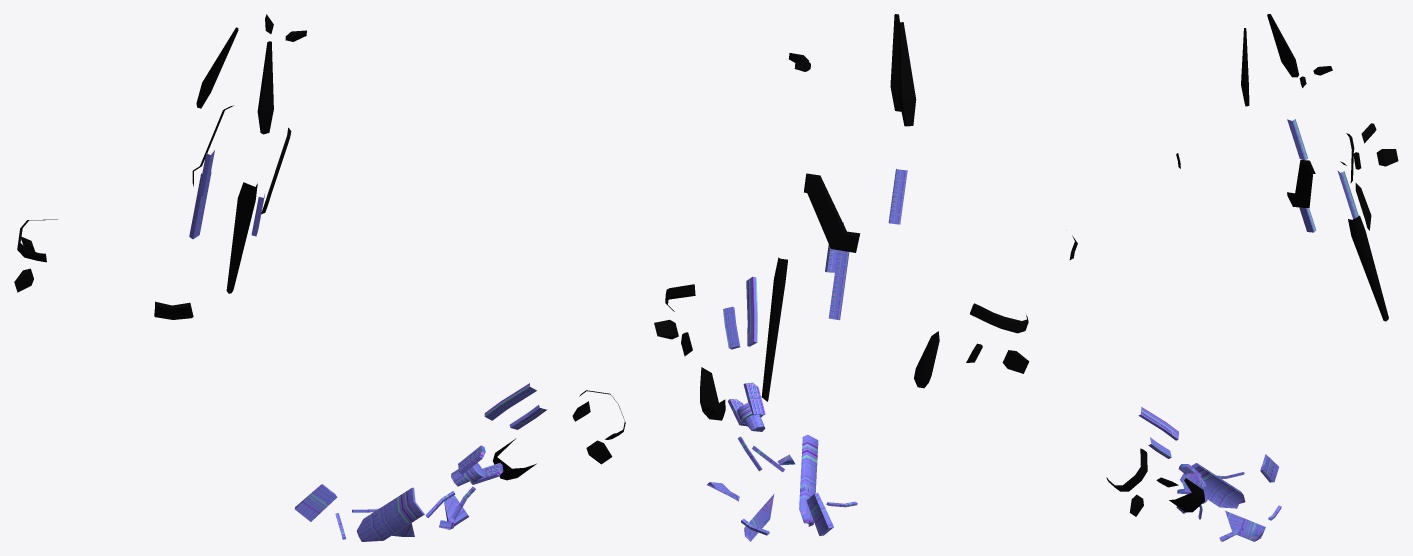
File: ama_ship_wreck_01_04.glb
3 views of the same model, side by side, from view 1: azimuth 30°, elevation 25°; view 2: azimuth 150°, elevation 25°; view 3: azimuth 270°, elevation 25° (orthographic). The views are drawn at different scales.
Visible parts, largest first — view 1: ama_ship_wreck_details_01_04_LOD0, ama_ship_wreck_01_04_LOD0; view 2: ama_ship_wreck_01_04_LOD0, ama_ship_wreck_details_01_04_LOD0; view 3: ama_ship_wreck_01_04_LOD0, ama_ship_wreck_details_01_04_LOD0.
Boxes of the visible parts, x1,y1,x2,y2 form: ama_ship_wreck_details_01_04_LOD0: (189,150,546,541); ama_ship_wreck_01_04_LOD0: (14,14,625,480); ama_ship_wreck_01_04_LOD0: (654,14,1077,420); ama_ship_wreck_details_01_04_LOD0: (707,169,907,541); ama_ship_wreck_01_04_LOD0: (1106,14,1398,516); ama_ship_wreck_details_01_04_LOD0: (1138,119,1358,541).
Size of what is drawn, in the model's own units: 8.93 by 9.67 by 5.54.
2 materials, 2 textured.
